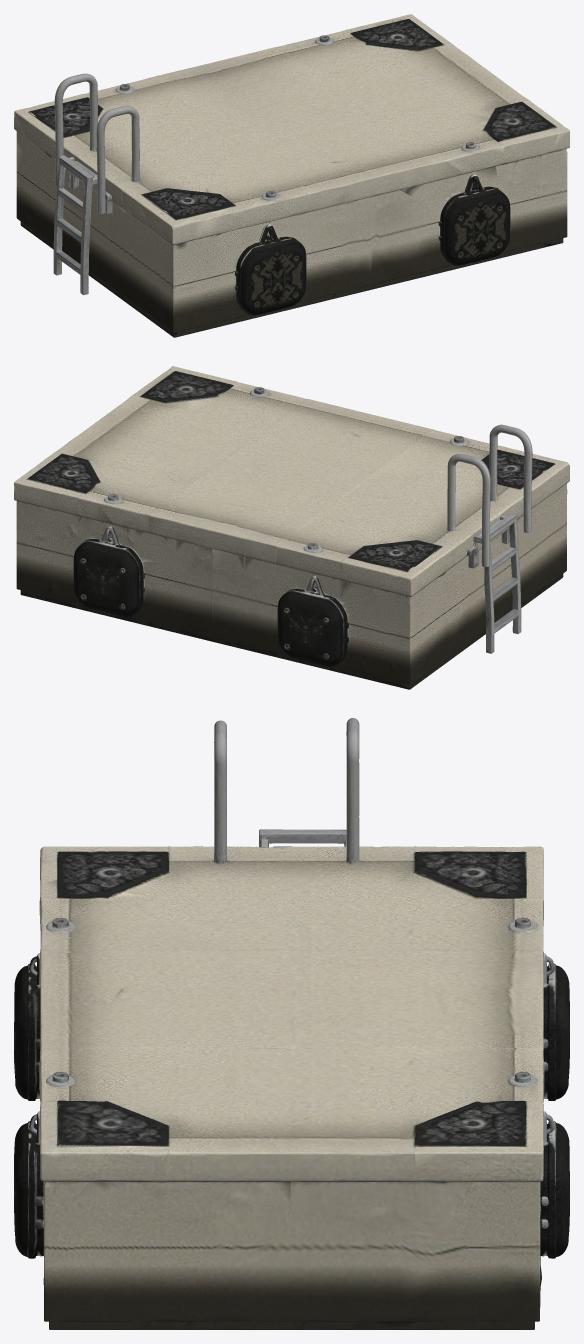
File: bermuda-dock.glb
3 renders of one model, top to bottom at view 1: azimuth 30°, elevation 25°; view 2: azimuth 150°, elevation 25°; view 3: azimuth 270°, elevation 25°, orthographic. The views are drawn at different scales.
Size of the model in its own units: 1.9 by 0.8357 by 1.38.
1 material, 1 textured.
